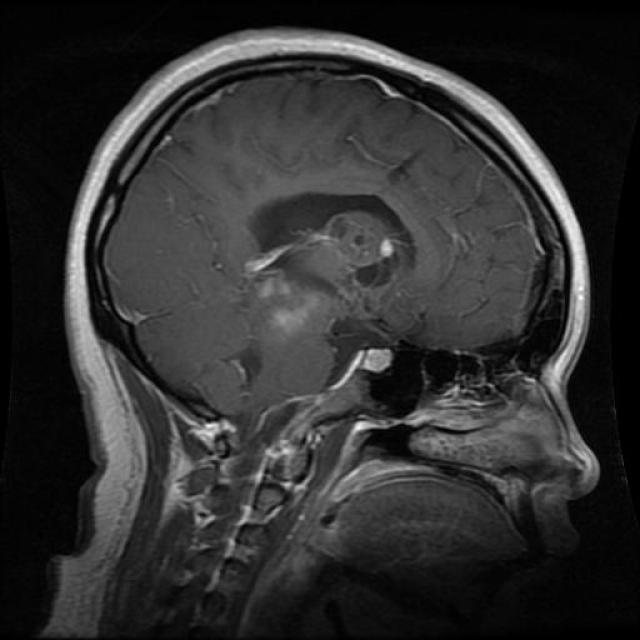Brain-Tumor: (238, 186, 428, 352)
